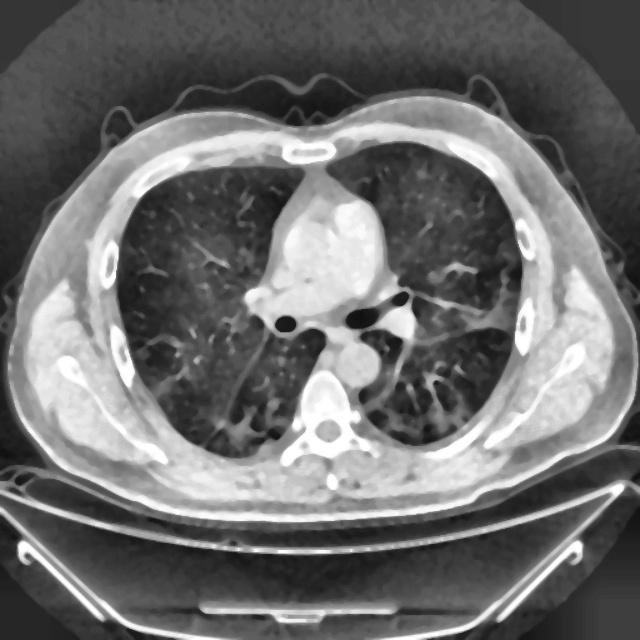covid: (5, 76, 638, 532)
